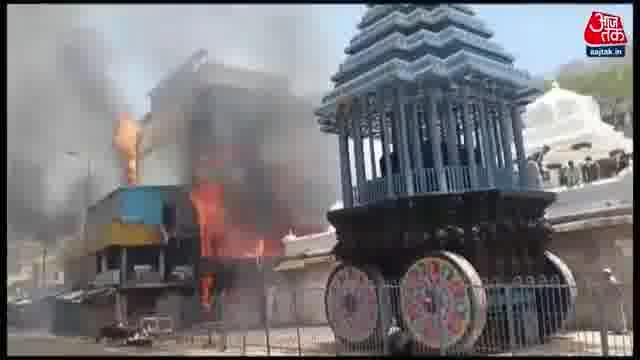fire: (196, 199, 231, 264), (120, 121, 140, 192)
smoke: (215, 82, 316, 197)
